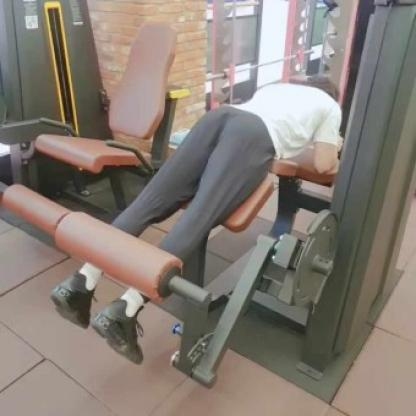reg curl machine: (50, 0, 416, 388)
